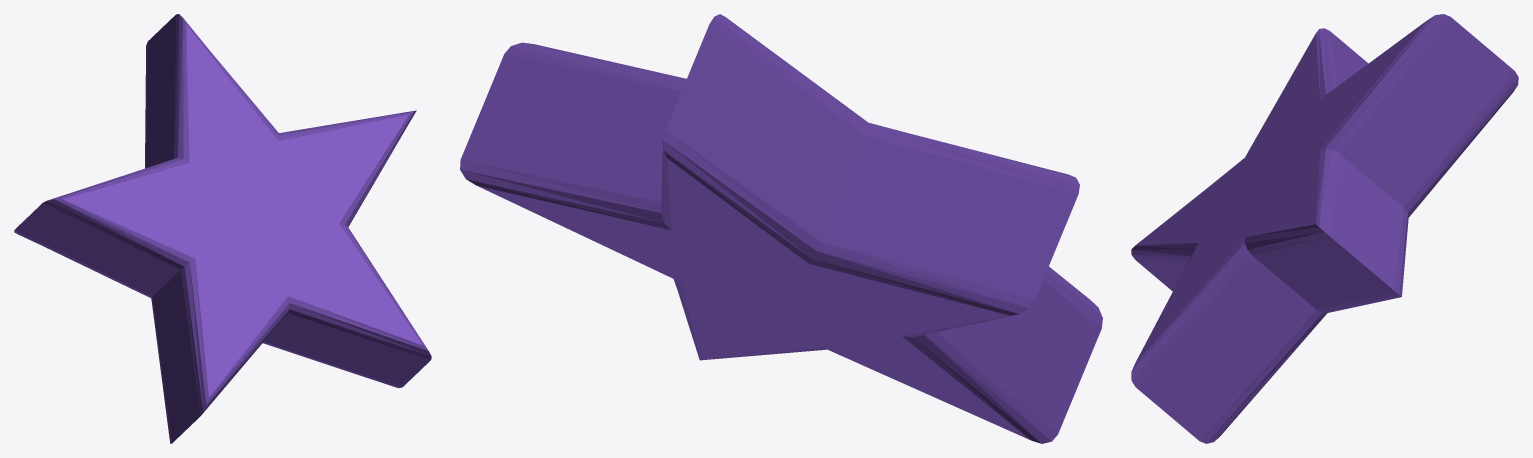
The model's file is star.glb.
3 views of the same model, side by side, from view 1: azimuth 30°, elevation 25°; view 2: azimuth 150°, elevation 25°; view 3: azimuth 270°, elevation 25° (orthographic). The views are drawn at different scales.
Bounding box in the file's own units: 1.33 × 1.11 × 1.06.
